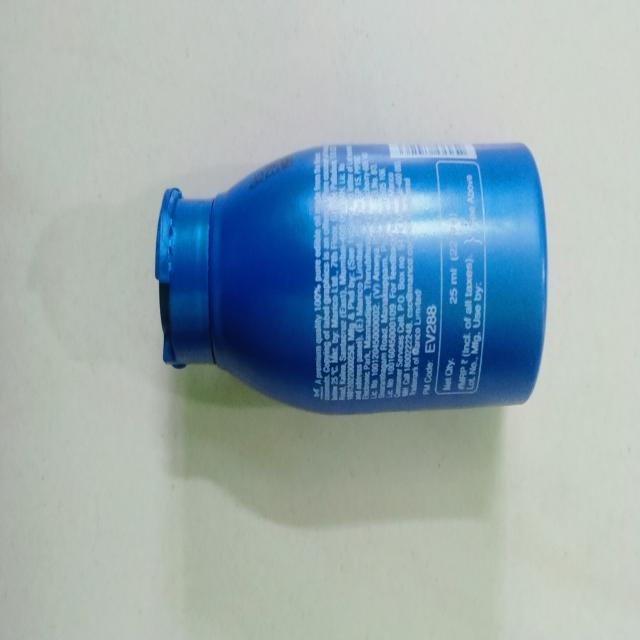oil: (153, 142, 546, 406)
